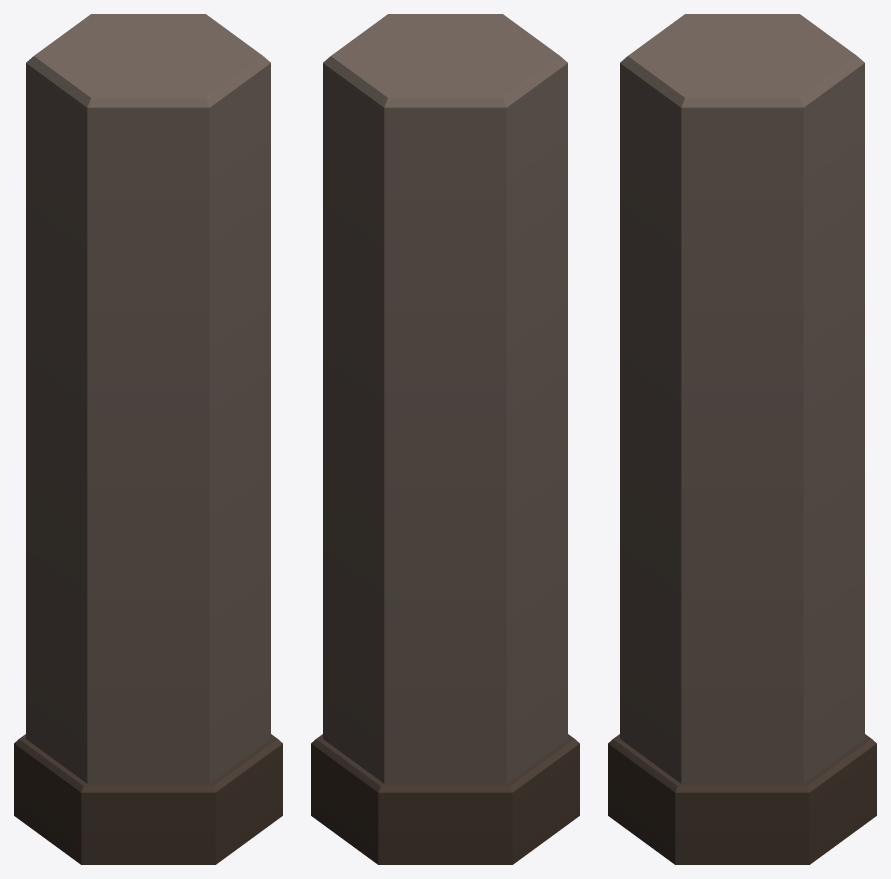
Rendered from Pillar 09.FBX.
3 views of the same model, side by side, from view 1: azimuth 30°, elevation 25°; view 2: azimuth 150°, elevation 25°; view 3: azimuth 270°, elevation 25° (orthographic).
Visible parts, largest first — view 1: Pillar 09; view 2: Pillar 09; view 3: Pillar 09.
Boxes of the visible parts, box(x1,y1,x2,y2) form: Pillar 09: box(14, 14, 282, 864); Pillar 09: box(311, 14, 579, 864); Pillar 09: box(608, 14, 876, 864).
Size of the model in its own units: 280 by 1008 by 323.
1 material, 1 textured.
